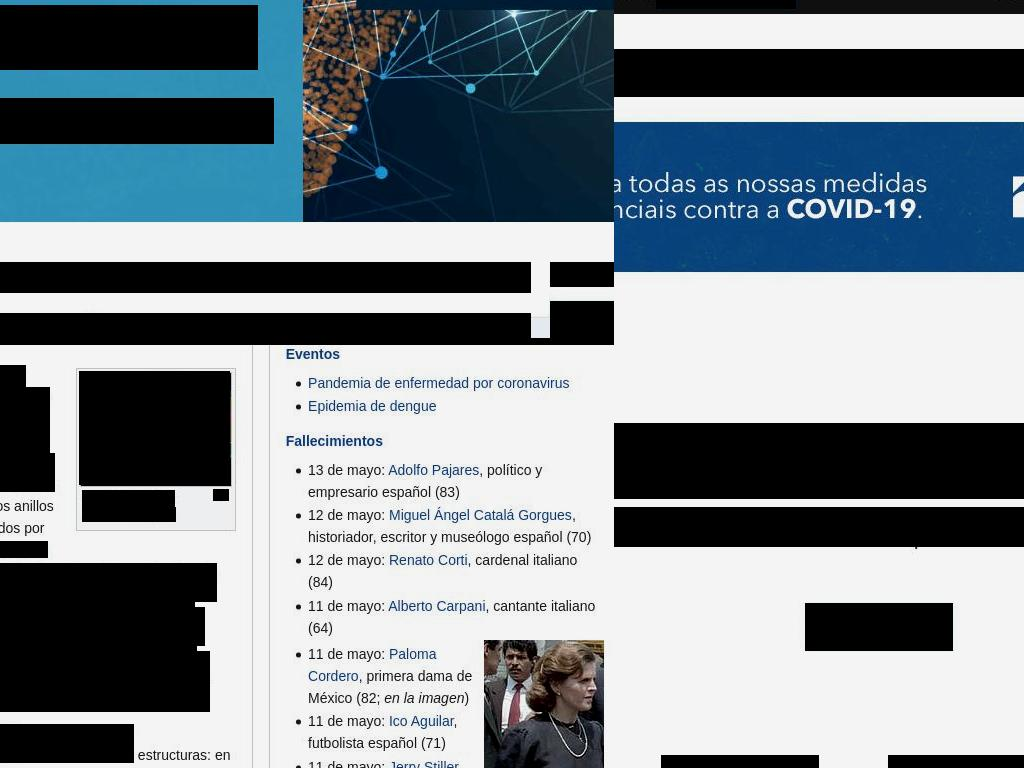button: (614, 49, 1024, 97), (0, 313, 531, 338), (0, 98, 274, 144), (805, 603, 953, 651), (550, 301, 614, 340), (656, 0, 796, 9)
heading: (614, 423, 1024, 499), (0, 262, 531, 293), (0, 313, 531, 338), (614, 61, 983, 86), (661, 755, 819, 768), (888, 755, 1024, 768), (550, 262, 614, 287)
iframe: (614, 122, 1024, 272)
image: (79, 371, 230, 485), (484, 640, 604, 768), (213, 489, 229, 501)
link: (0, 629, 197, 668), (308, 645, 437, 684), (308, 374, 571, 391), (388, 506, 572, 523), (308, 397, 437, 414), (388, 597, 487, 614), (285, 432, 383, 449), (388, 461, 480, 478), (0, 607, 88, 624), (388, 552, 468, 569), (388, 713, 454, 730), (285, 345, 340, 362), (0, 541, 48, 558), (388, 758, 458, 768), (0, 453, 36, 470), (138, 507, 176, 522), (0, 387, 23, 404), (0, 746, 13, 763)
text: (0, 5, 258, 70), (614, 507, 1024, 547), (0, 651, 210, 712), (308, 597, 596, 636), (308, 506, 592, 545), (308, 552, 578, 591), (308, 461, 544, 500), (0, 563, 217, 602), (0, 607, 205, 646), (0, 585, 195, 624), (308, 667, 473, 706), (308, 713, 458, 752), (0, 724, 134, 763), (0, 746, 230, 768), (0, 387, 50, 470), (0, 497, 54, 558), (82, 490, 175, 522), (0, 453, 55, 492), (308, 758, 472, 768), (308, 506, 390, 523), (308, 552, 390, 569), (308, 645, 390, 662), (308, 713, 390, 730), (308, 461, 389, 478), (308, 597, 389, 614), (384, 689, 465, 706), (308, 758, 390, 768), (0, 5, 44, 23), (95, 585, 112, 602), (464, 689, 470, 706)
